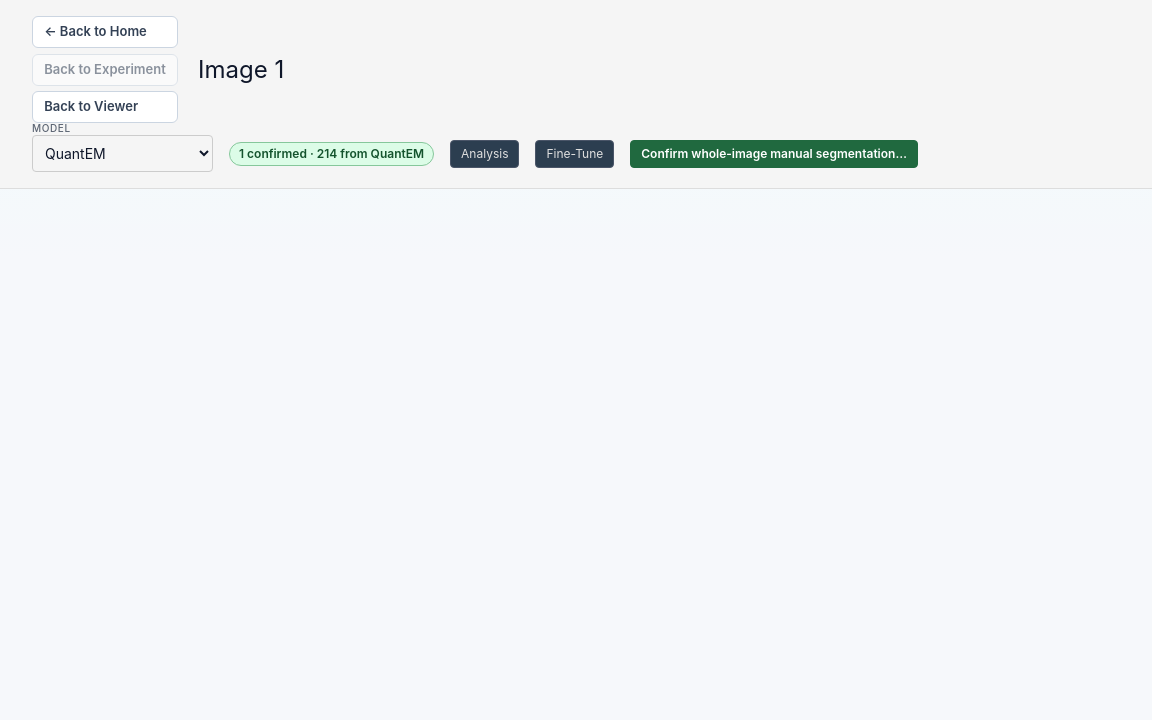
SegmentationHeader › manual coverage confirmation › requires an explicit entire-image acknowledgement and offers no deletion
Click the button "Confirm whole-image manual segmentation…" at (774, 154), box [630, 140, 918, 168]
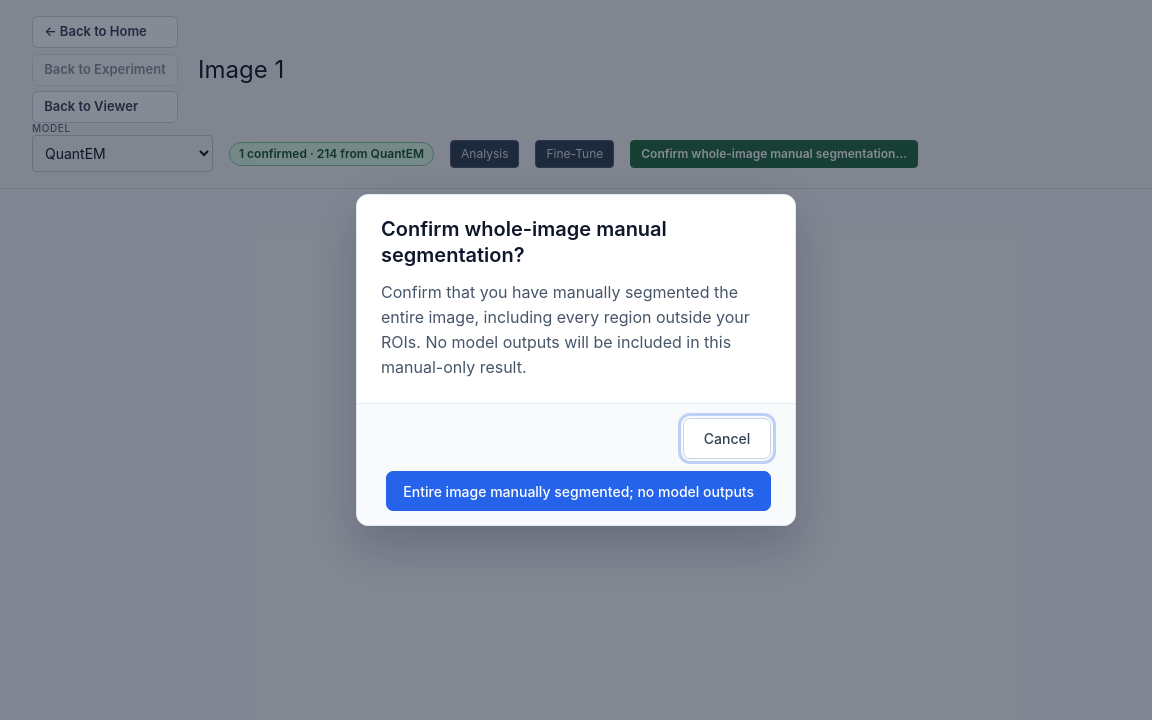
expect the dialog shows "No model outputs will be included": met, box [381, 282, 750, 376]
Click the button "Entire image manually segmented; no model outputs" at (579, 491), box [386, 471, 771, 512]
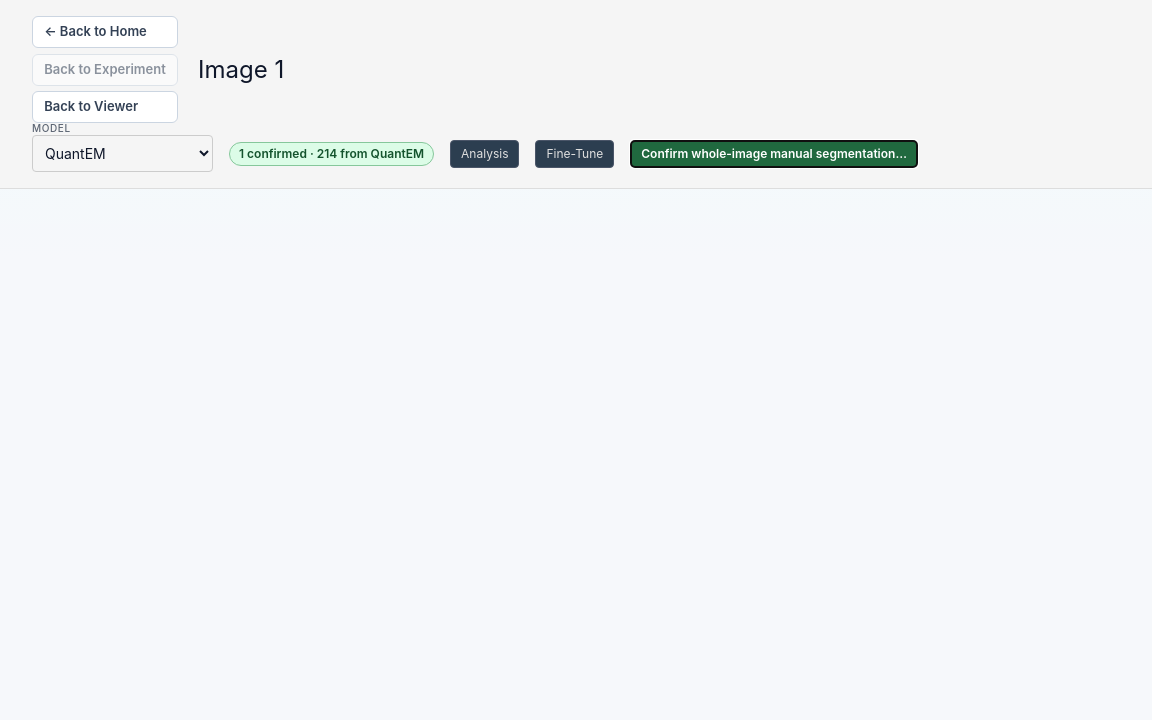
expect the dialog is gone: met
